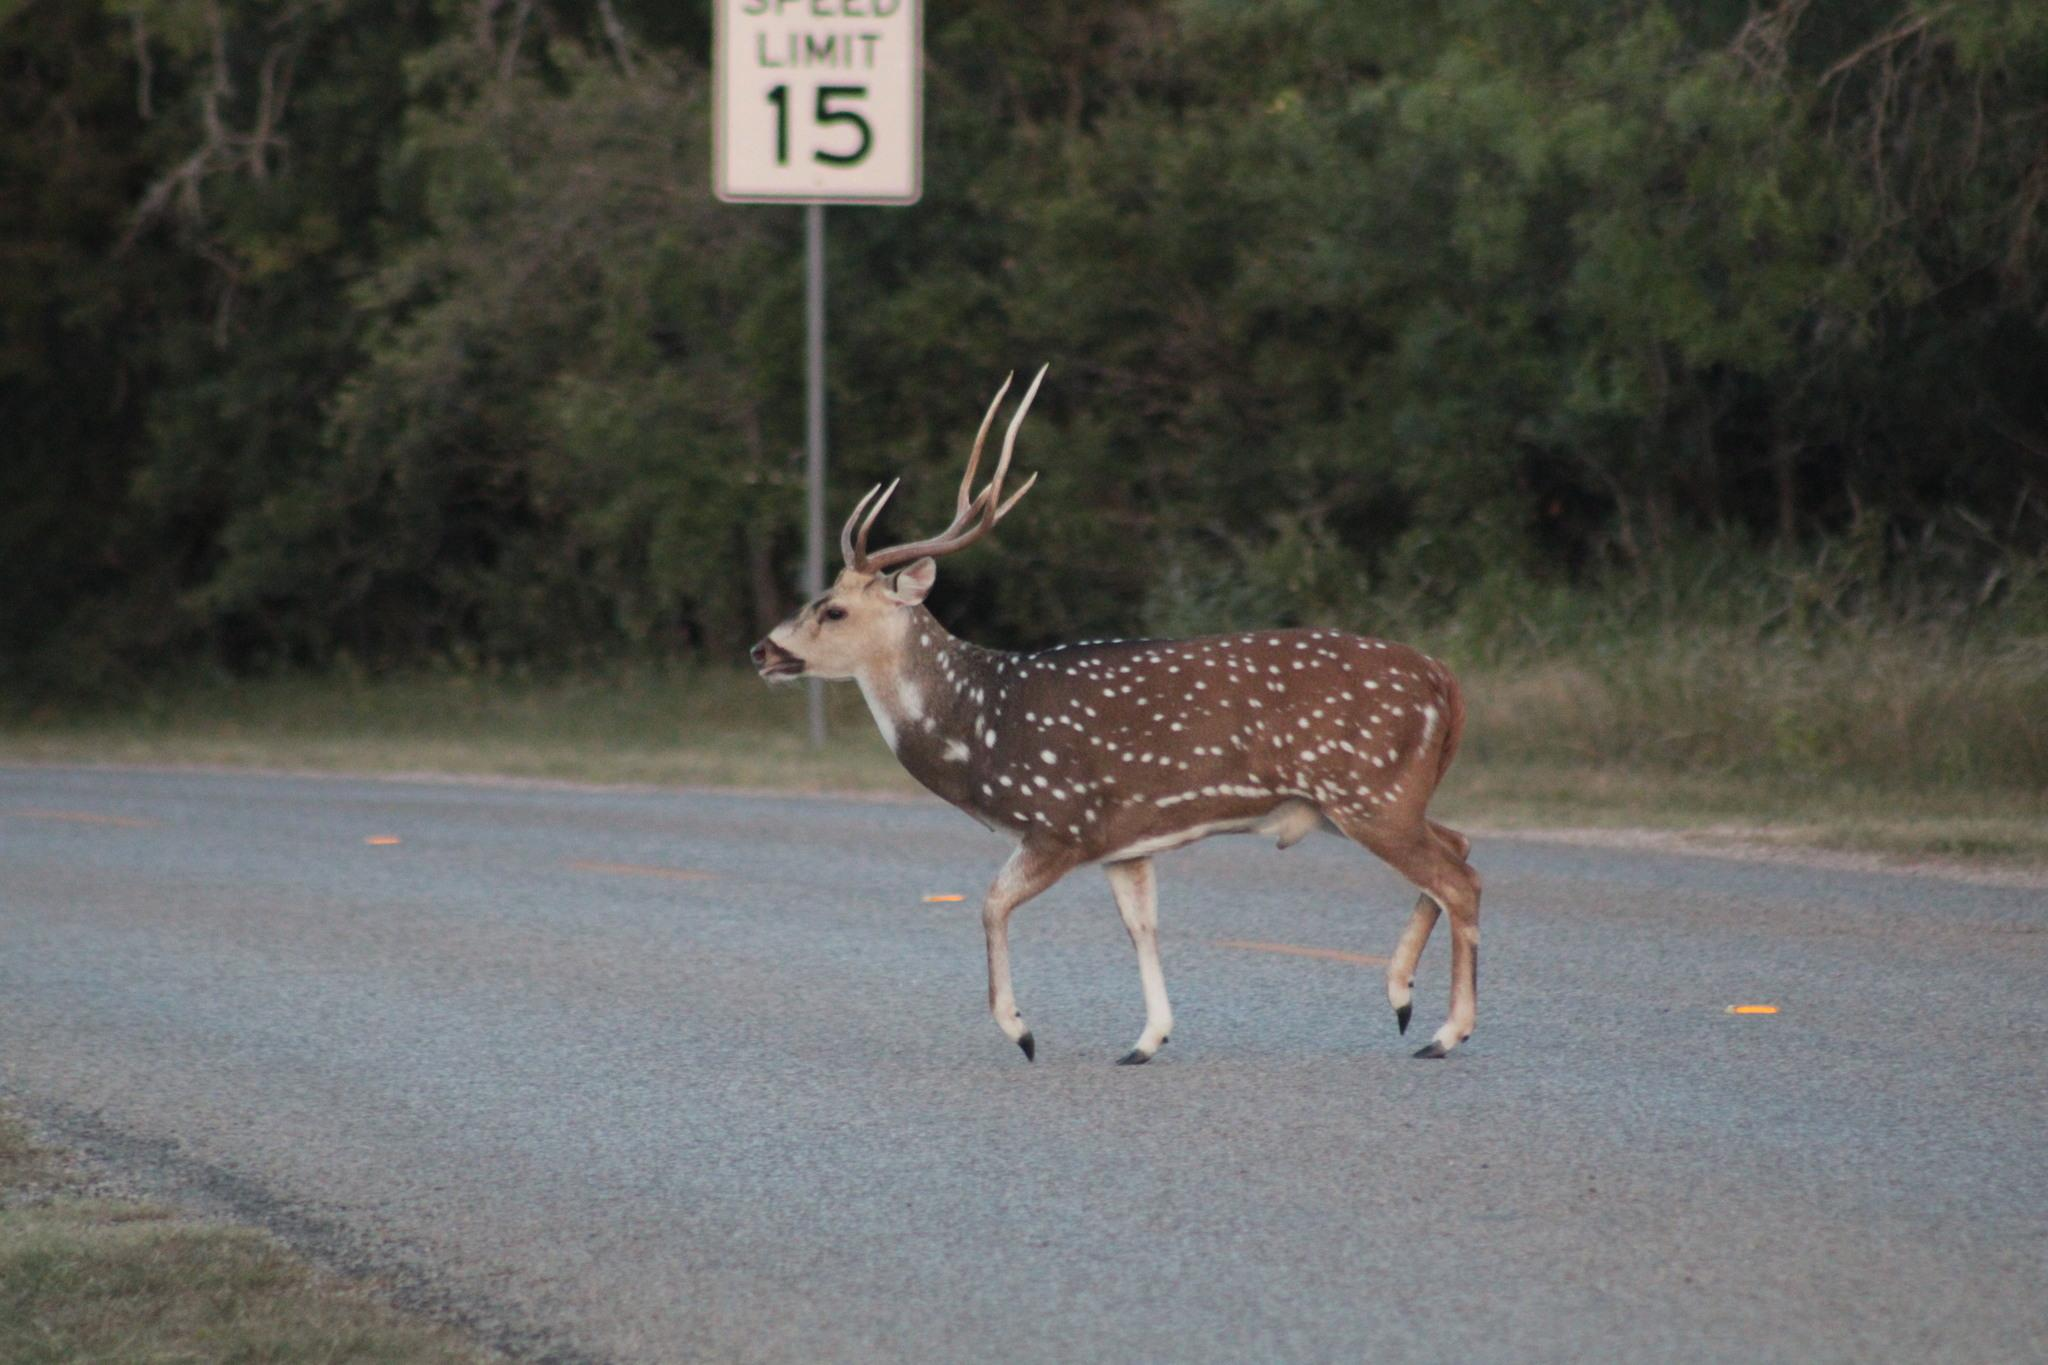Deer: (752, 366, 1480, 1063)
